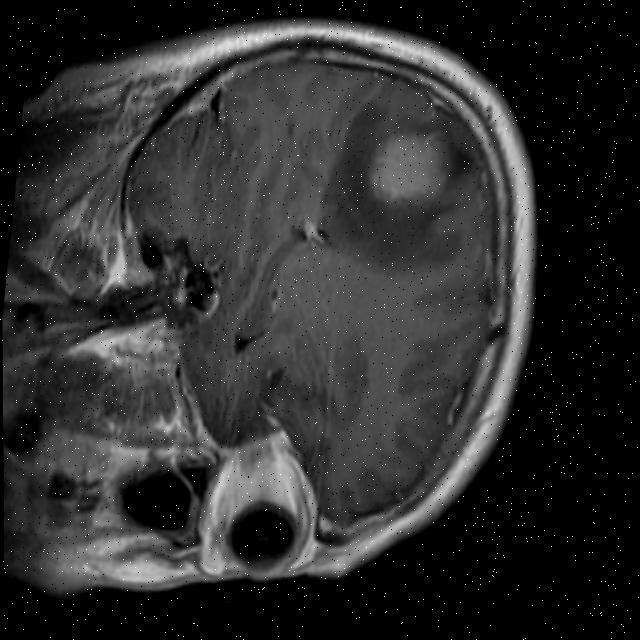Meningioma: (364, 123, 454, 216)
